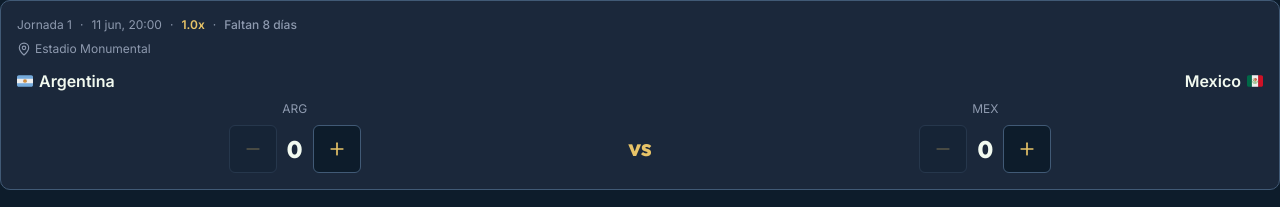
Test case: MatchCard › no reintenta automaticamente errores definitivos
Click the button named "Incrementar goles de Argentina" at (337, 149), box [313, 125, 361, 173]
Wait 1500 ms
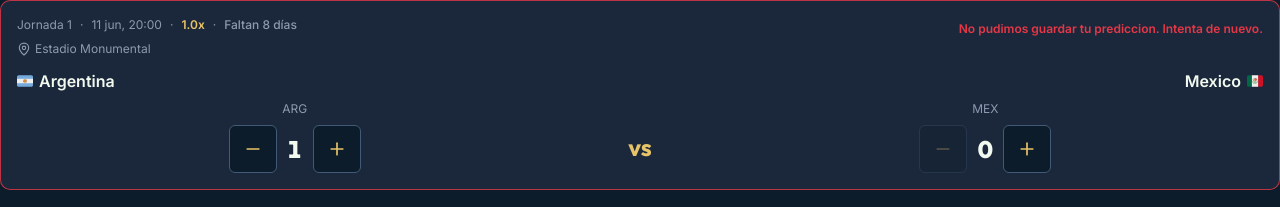
Expected: the text "No pudimos guardar tu prediccion. Intenta de nuevo." is shown, [959, 21, 1263, 37]
